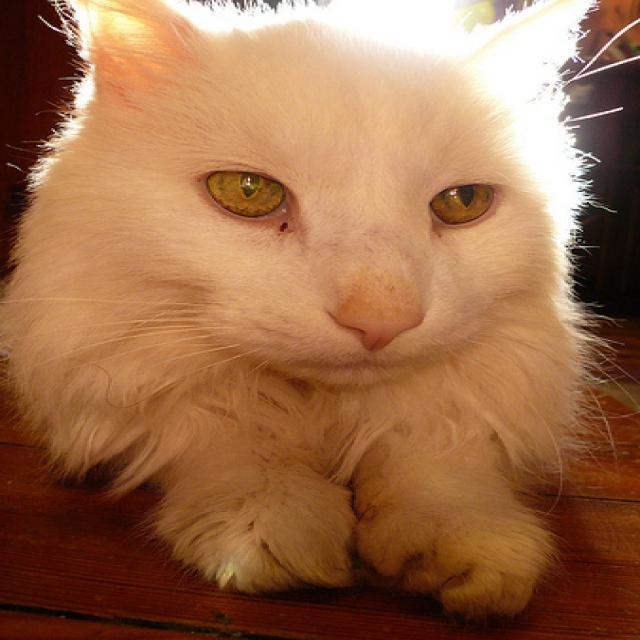Maine Coon: (0, 0, 613, 624)
